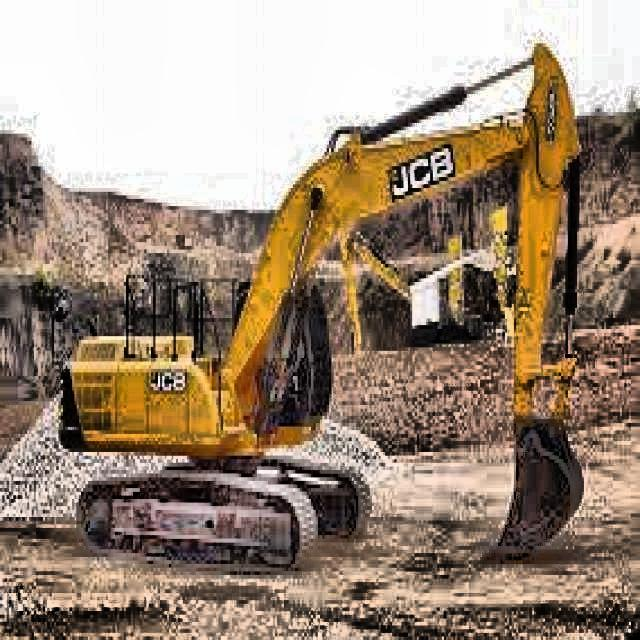excavator: (59, 41, 587, 574)
